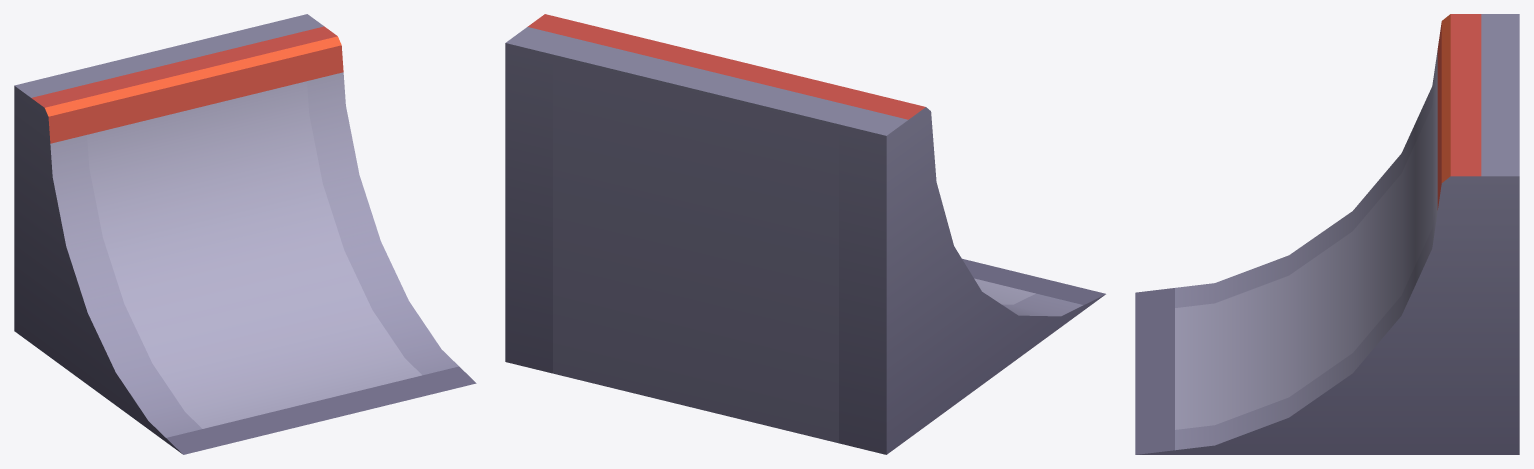
The model's file is bowl-side.fbx.
3 renders of one model, left to right at view 1: azimuth 30°, elevation 25°; view 2: azimuth 150°, elevation 25°; view 3: azimuth 270°, elevation 25°, orthographic. The views are drawn at different scales.
Visible parts, largest first — view 1: bowl-side; view 2: bowl-side; view 3: bowl-side.
Part boxes in pixels (<box>): bowl-side: <box>14,14,476,454</box>; bowl-side: <box>505,14,1105,454</box>; bowl-side: <box>1135,14,1519,454</box>.
Bounding box in the file's own units: 100 × 80 × 100.
1 material, 1 textured.
